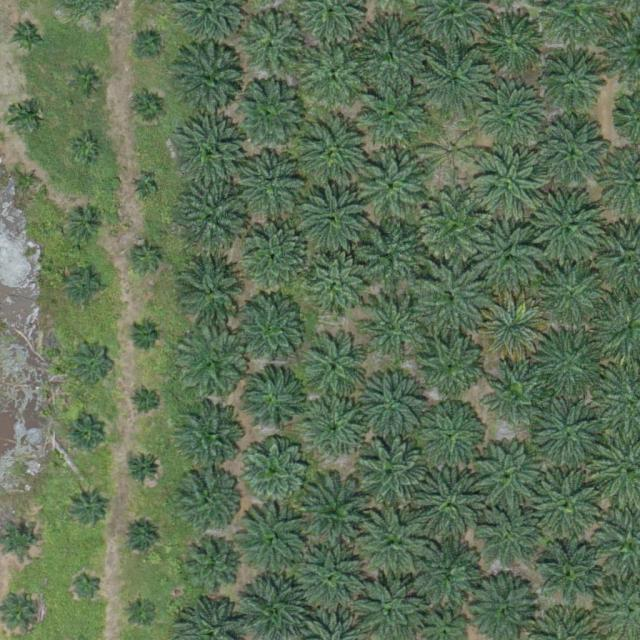Healthy: (299, 475, 377, 554), (415, 470, 486, 541), (296, 543, 367, 614), (531, 191, 602, 262), (354, 221, 425, 292), (476, 440, 547, 511), (414, 331, 485, 402), (360, 507, 430, 578), (240, 508, 310, 579), (532, 397, 602, 468), (532, 467, 602, 538), (177, 182, 248, 252), (177, 254, 248, 324), (236, 79, 306, 150), (241, 7, 311, 78), (302, 115, 372, 186), (299, 182, 369, 253), (359, 154, 430, 224), (357, 80, 427, 151), (353, 19, 423, 90), (419, 192, 490, 262), (474, 222, 544, 293), (474, 146, 544, 217), (479, 86, 549, 157), (539, 118, 609, 189), (417, 265, 487, 336), (239, 436, 309, 507), (174, 406, 244, 477), (179, 331, 249, 402), (407, 534, 477, 604), (539, 260, 609, 330), (532, 328, 602, 398), (176, 49, 246, 119), (177, 118, 247, 188), (300, 38, 370, 108), (421, 45, 491, 115), (359, 294, 429, 364), (357, 439, 427, 509), (235, 297, 305, 367), (542, 49, 605, 112), (420, 406, 483, 469), (362, 372, 425, 435), (245, 369, 308, 432), (538, 545, 600, 608), (246, 224, 308, 287), (244, 153, 306, 216), (307, 258, 369, 321), (480, 13, 543, 75), (305, 340, 367, 403), (305, 398, 368, 460), (178, 467, 240, 530), (184, 540, 239, 595), (489, 367, 544, 422), (481, 512, 535, 567)
Small: (71, 339, 118, 386), (68, 418, 107, 458), (11, 17, 50, 57), (124, 450, 164, 489), (7, 592, 46, 631), (68, 206, 107, 245), (67, 267, 106, 306), (69, 488, 108, 527), (122, 520, 161, 559), (132, 242, 163, 274), (126, 593, 157, 625), (73, 569, 104, 601), (130, 319, 161, 351), (8, 100, 39, 131), (72, 135, 103, 166), (73, 66, 104, 97), (132, 387, 163, 418), (133, 30, 164, 61), (134, 94, 165, 125), (19, 170, 43, 194), (133, 176, 157, 200)
Yellow: (478, 295, 548, 365), (421, 121, 483, 184)
